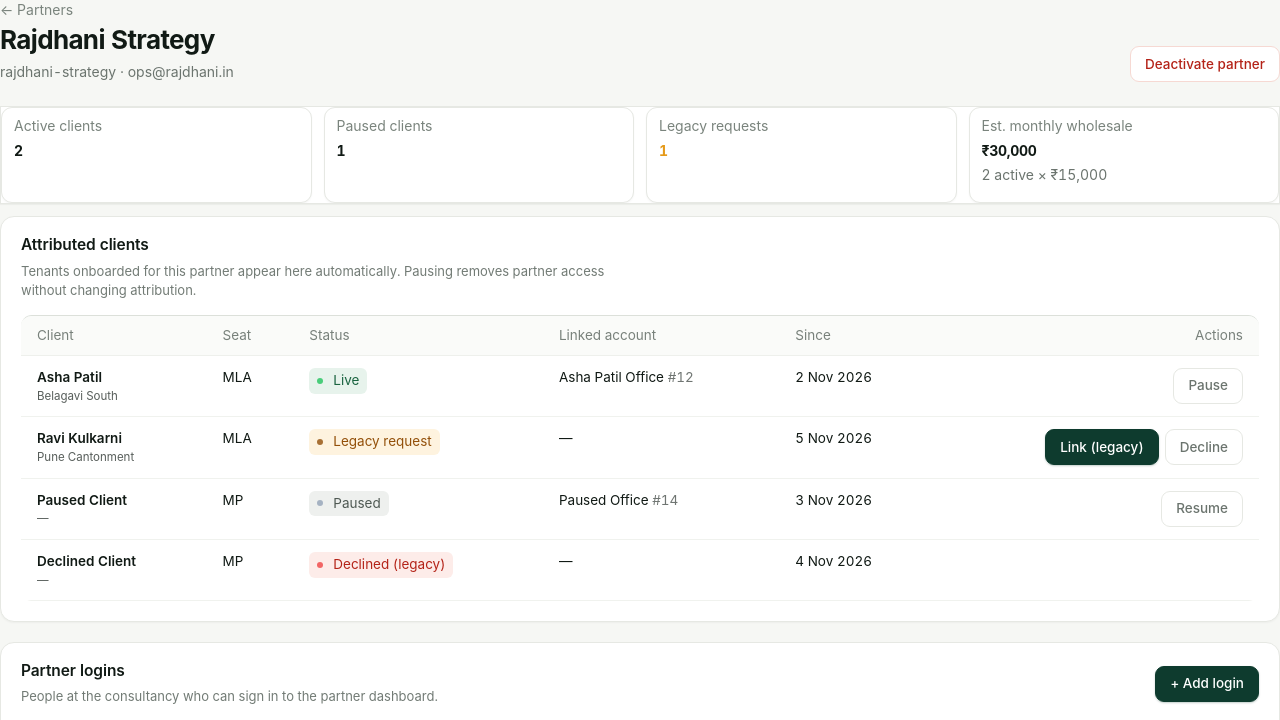
it: Admin partner detail › shows the server error when activation is refused
This screenshot has width=1280, height=720.
Click the button "Link (legacy)" at x=1102, y=447, box [1045,429,1159,465]
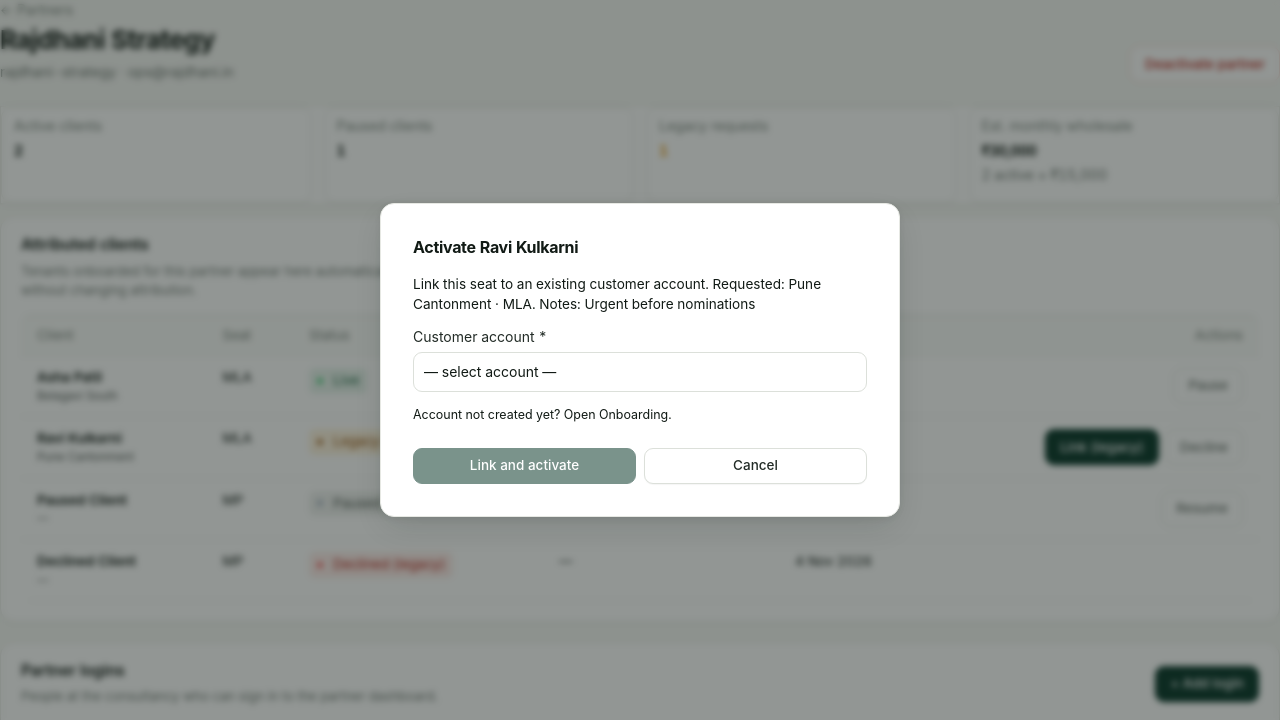
Select "Ravi Office · Pune · aspirant #21" in the dropdown labelled "Customer account *" at x=640, y=372, box [413,352,867,392]
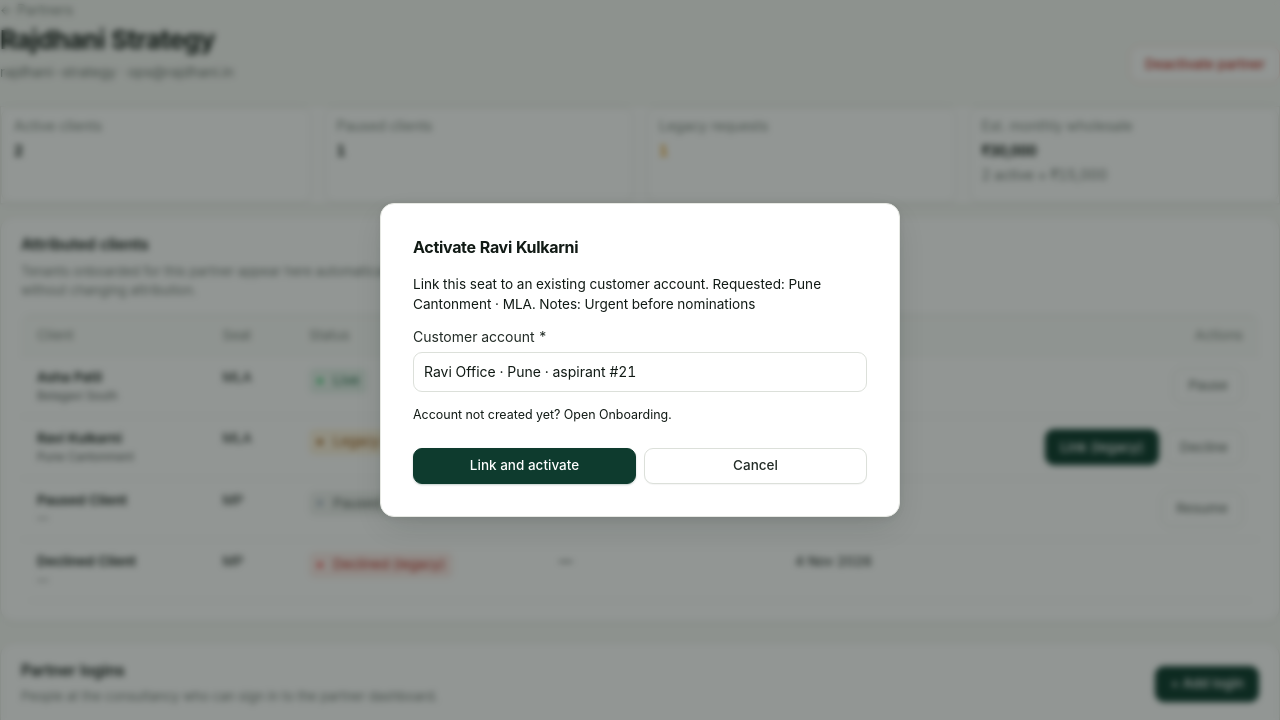
Click the button "Link and activate" at x=524, y=466, box [413,448,636,484]
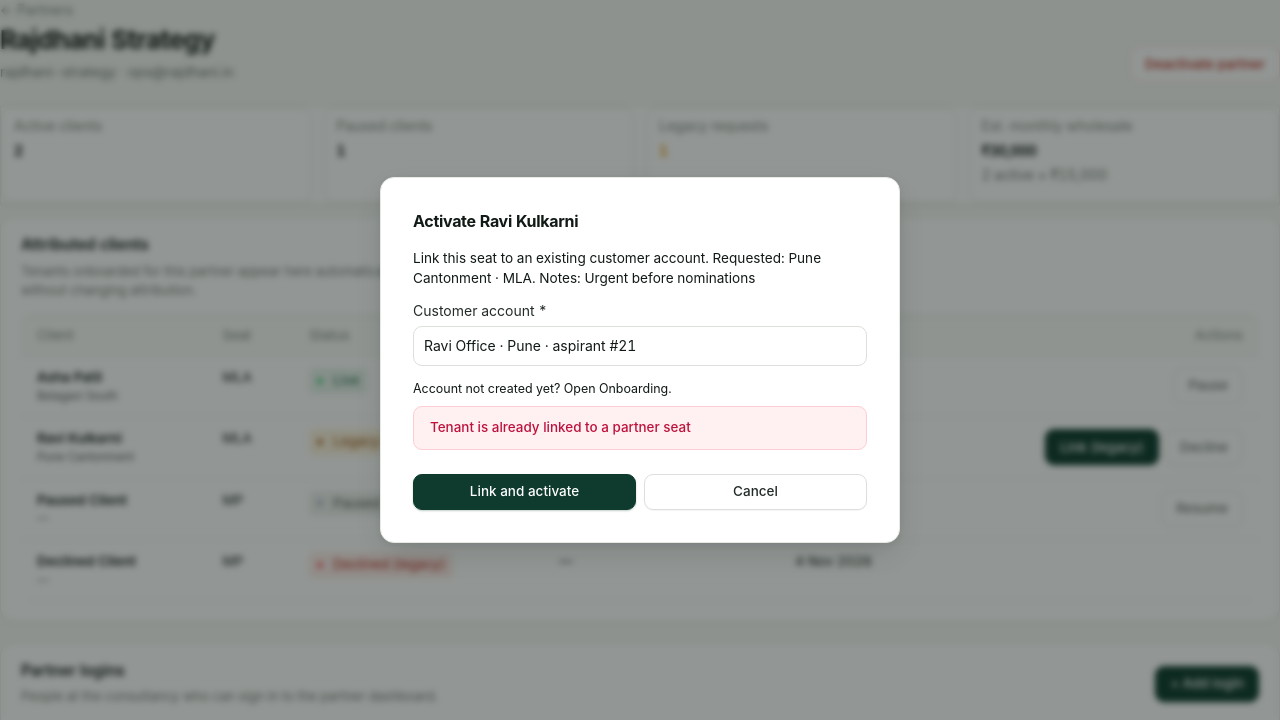
Now the message shows "already linked", box [430,419,691,435]
